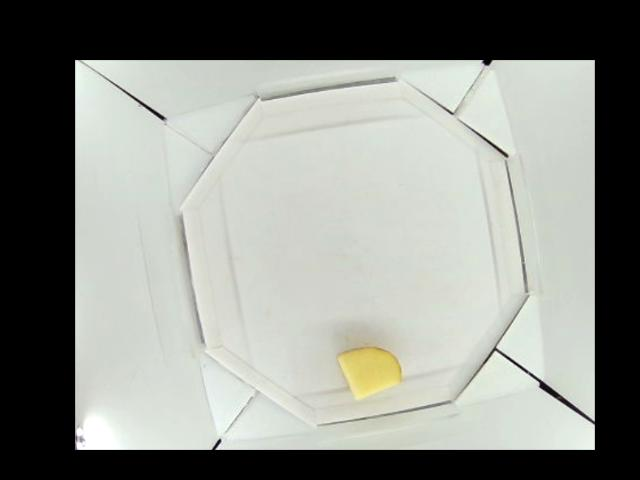Potato: (337, 345, 403, 397)
